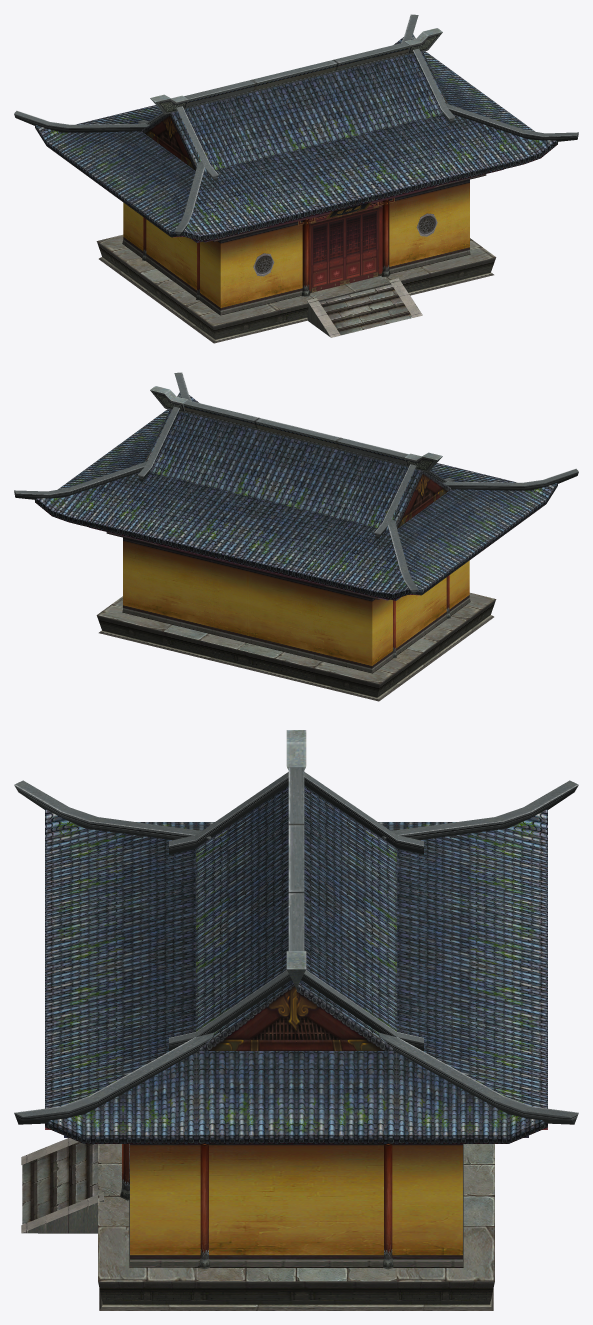
Rendered from Maincity06_Building_sm02_LOD1.FBX.
3 views of the same model, one above another, from view 1: azimuth 30°, elevation 25°; view 2: azimuth 150°, elevation 25°; view 3: azimuth 270°, elevation 25° (orthographic). The views are drawn at different scales.
Visible parts, largest first — view 1: Maincity06_Building_sm02_LOD1; view 2: Maincity06_Building_sm02_LOD1; view 3: Maincity06_Building_sm02_LOD1.
Boxes of the visible parts, x1,y1,x2,y2 form: Maincity06_Building_sm02_LOD1: (14,14,578,343); Maincity06_Building_sm02_LOD1: (14,372,578,701); Maincity06_Building_sm02_LOD1: (14,730,578,1310).
Size of the model in its own units: 2466 by 1181 by 1749.
